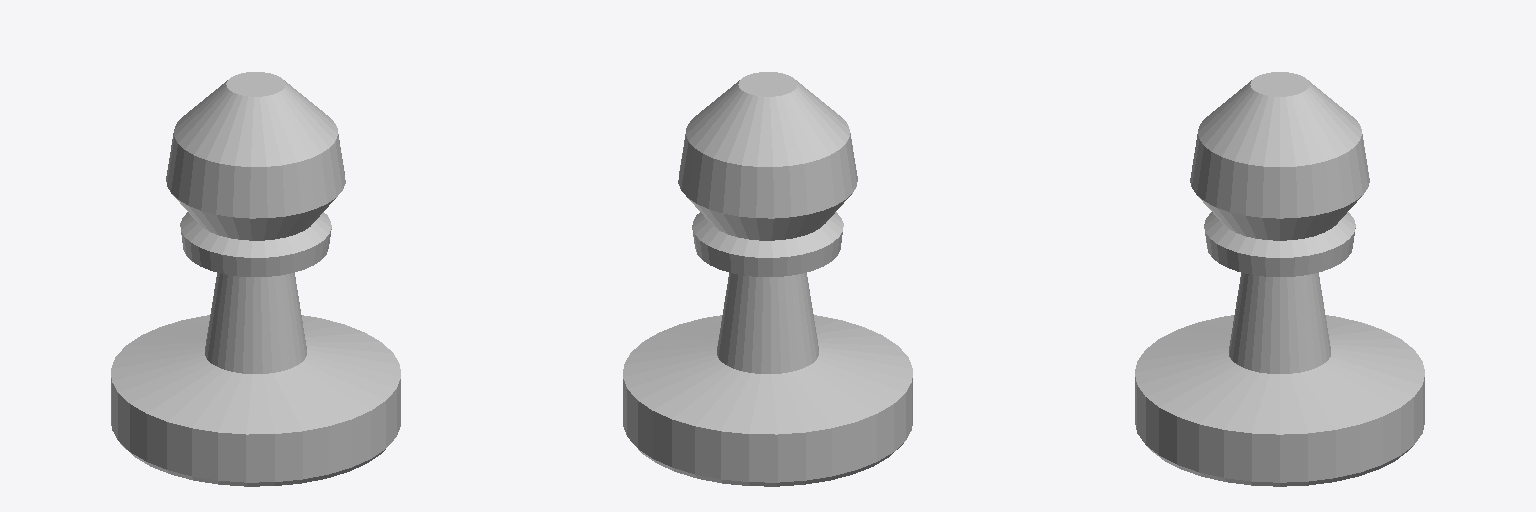
Rendered from Pawn_white.obj.
3 renders of one model, left to right at view 1: azimuth 30°, elevation 25°; view 2: azimuth 150°, elevation 25°; view 3: azimuth 270°, elevation 25°, orthographic.
Parts seen in each view (by area): view 1: ChessPawn.001; view 2: ChessPawn.001; view 3: ChessPawn.001.
Boxes of the visible parts, x1,y1,x2,y2 form: ChessPawn.001: [111, 72, 400, 486]; ChessPawn.001: [623, 72, 912, 486]; ChessPawn.001: [1135, 72, 1424, 486].
Bounding box in the file's own units: 1.4 × 1.83 × 1.4.